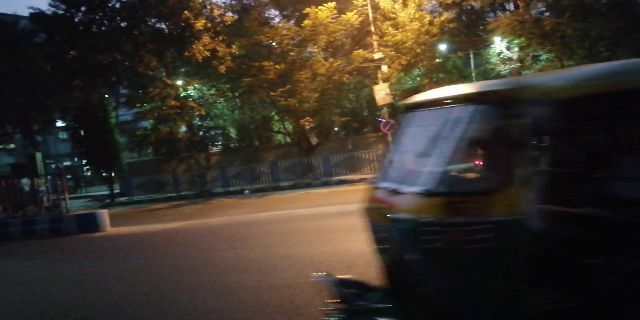Autorickshaw: (323, 87, 630, 311)
